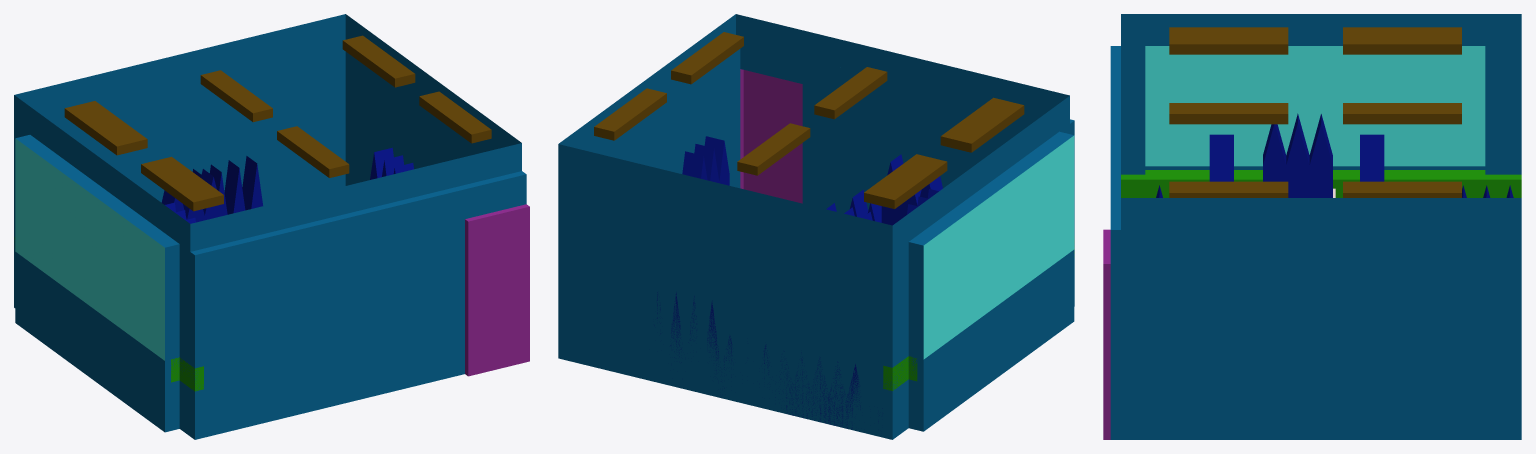
3 renders of one model, left to right at view 1: azimuth 30°, elevation 25°; view 2: azimuth 150°, elevation 25°; view 3: azimuth 270°, elevation 25°, orthographic. The views are drawn at different scales.
Visible parts, largest first — view 1: Group10, Group9, Group11, Group6, Group2, Group4, Group3, Group5, Group7, Group64, Group66, Group8; view 2: Group10, Group9, Group11, Group2, Group6, Group7, Group5, Group3, Group4, Group8, AbsorptionWedge90_26, AbsorptionWedge90_24 (+1 smaller); view 3: Group10, Group9, Group8, Group2, Group6, Group5, Group7, Group3, Group4, Group11, AbsorptionWedge90_27, AbsorptionWedge90_3 (+3 smaller).
Part boxes in pixels (box(x1,y1,x2,y2)): Group10: box(14, 14, 526, 439); Group9: box(15, 138, 164, 360); Group11: box(465, 204, 529, 376); Group6: box(64, 101, 147, 155); Group2: box(141, 156, 223, 211); Group4: box(342, 35, 415, 87); Group3: box(419, 91, 491, 143); Group5: box(277, 126, 349, 177); Group7: box(200, 70, 272, 122); Group64: box(242, 156, 262, 210); Group66: box(224, 160, 245, 214); Group8: box(14, 237, 203, 391); Group10: box(558, 14, 1074, 439); Group9: box(923, 135, 1074, 359); Group11: box(740, 69, 802, 203); Group2: box(940, 97, 1024, 152); Group6: box(864, 154, 947, 208); Group7: box(737, 123, 810, 175); Group5: box(814, 67, 887, 119); Group3: box(671, 32, 743, 84); Group4: box(594, 88, 666, 140); Group8: box(883, 246, 1074, 390); AbsorptionWedge90_26: box(704, 136, 729, 185); AbsorptionWedge90_24: box(682, 151, 707, 180); Group10: box(1110, 14, 1521, 439); Group9: box(1145, 46, 1485, 166); Group8: box(1121, 170, 1521, 197); Group2: box(1169, 27, 1288, 54); Group6: box(1343, 27, 1461, 54); Group5: box(1169, 103, 1288, 124); Group7: box(1343, 103, 1461, 124); Group3: box(1169, 181, 1288, 197); Group4: box(1343, 181, 1461, 197); Group11: box(1103, 229, 1110, 439); AbsorptionWedge90_27: box(1309, 114, 1332, 197); AbsorptionWedge90_3: box(1286, 113, 1309, 197).
Size of the model in its own units: 4.87 by 2.86 by 4.48.
